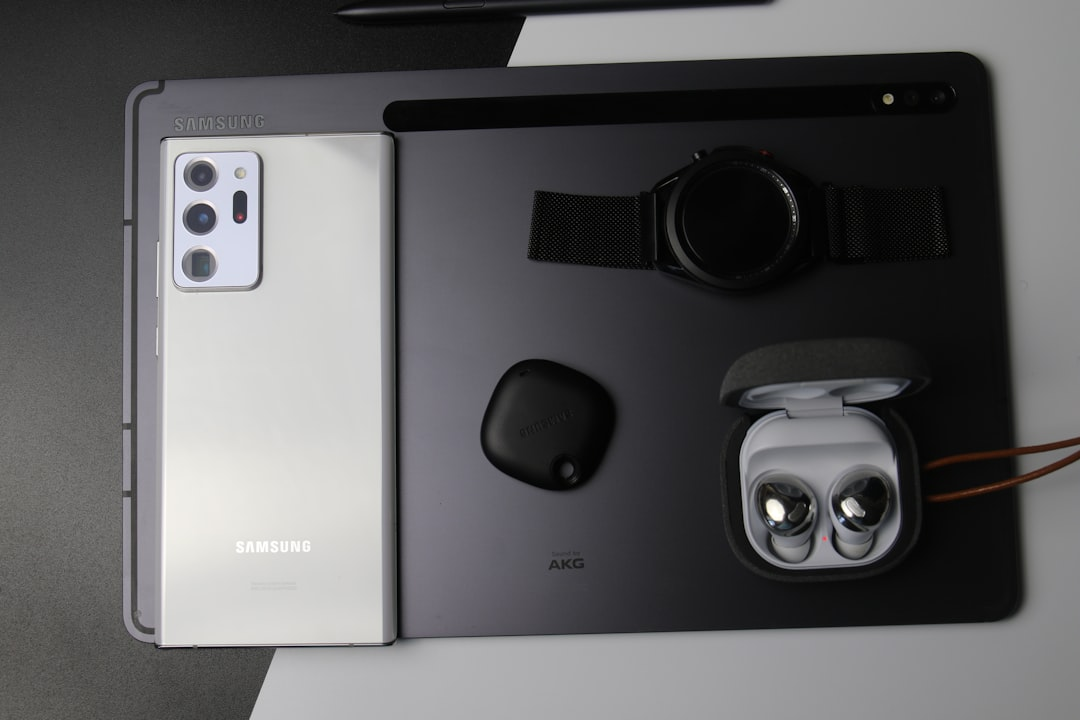phone: (152, 134, 399, 654)
